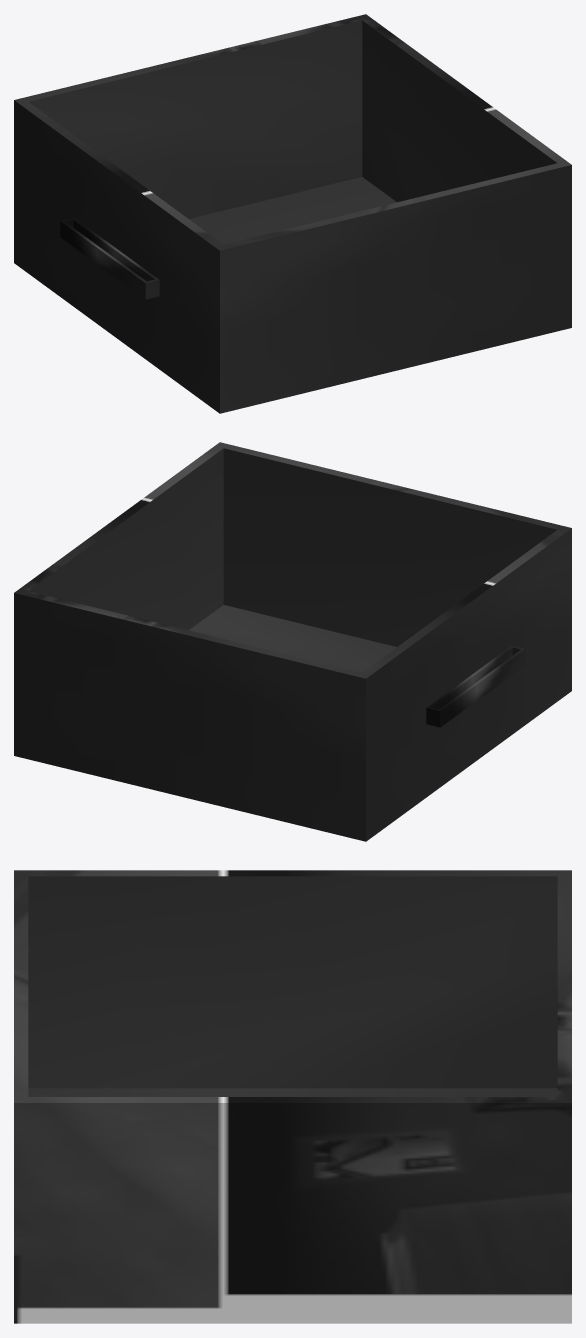
File: Cajon.fbx
3 views of the same model, one above another, from view 1: azimuth 30°, elevation 25°; view 2: azimuth 150°, elevation 25°; view 3: azimuth 270°, elevation 25° (orthographic). The views are drawn at different scales.
Visible parts, largest first — view 1: Cajon; view 2: Cajon; view 3: Cajon.
Part boxes in pixels (<box>): Cajon: <box>14,14,571,413</box>; Cajon: <box>14,442,571,841</box>; Cajon: <box>14,870,571,1323</box>.
Bounding box in the file's own units: 51.28 × 21.82 × 49.97.
